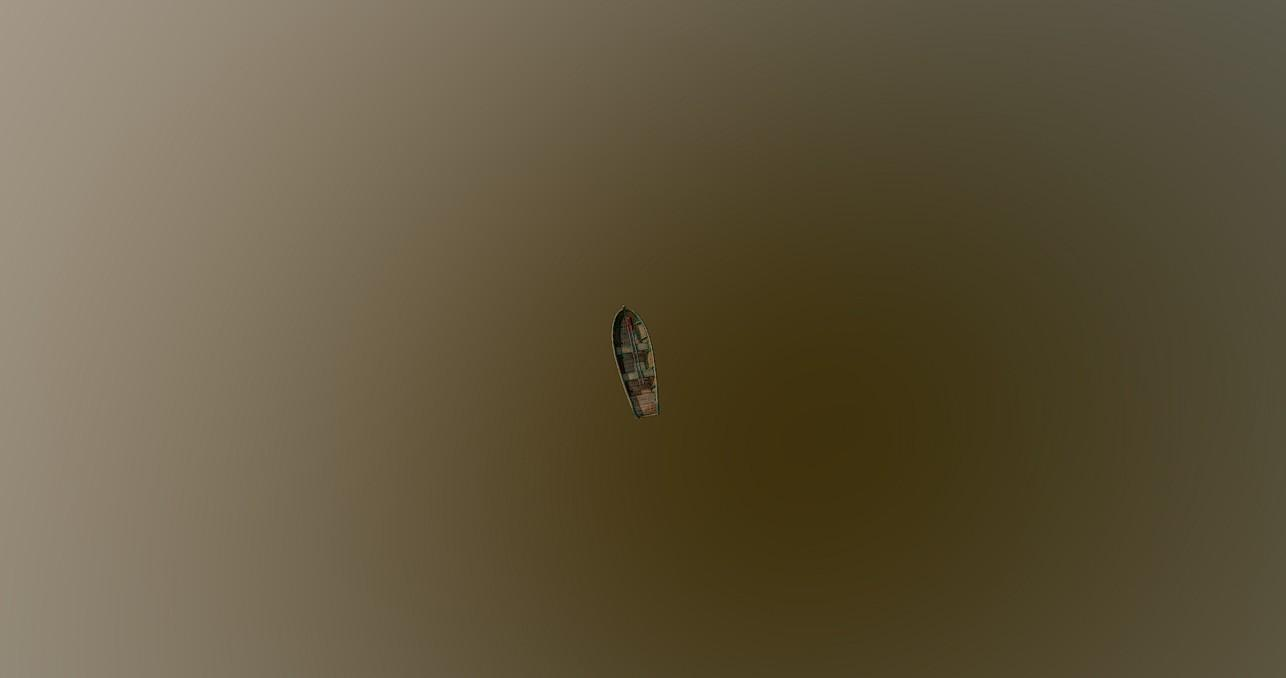Boat: (609, 302, 660, 419)
